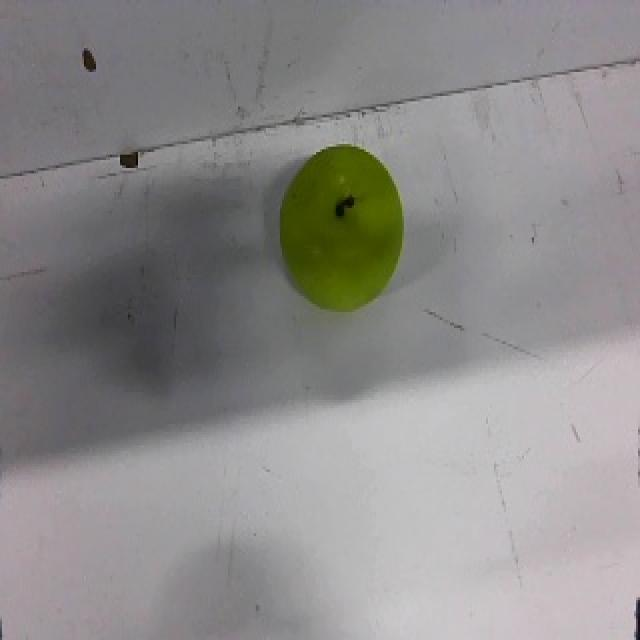apple: (278, 142, 404, 313)
